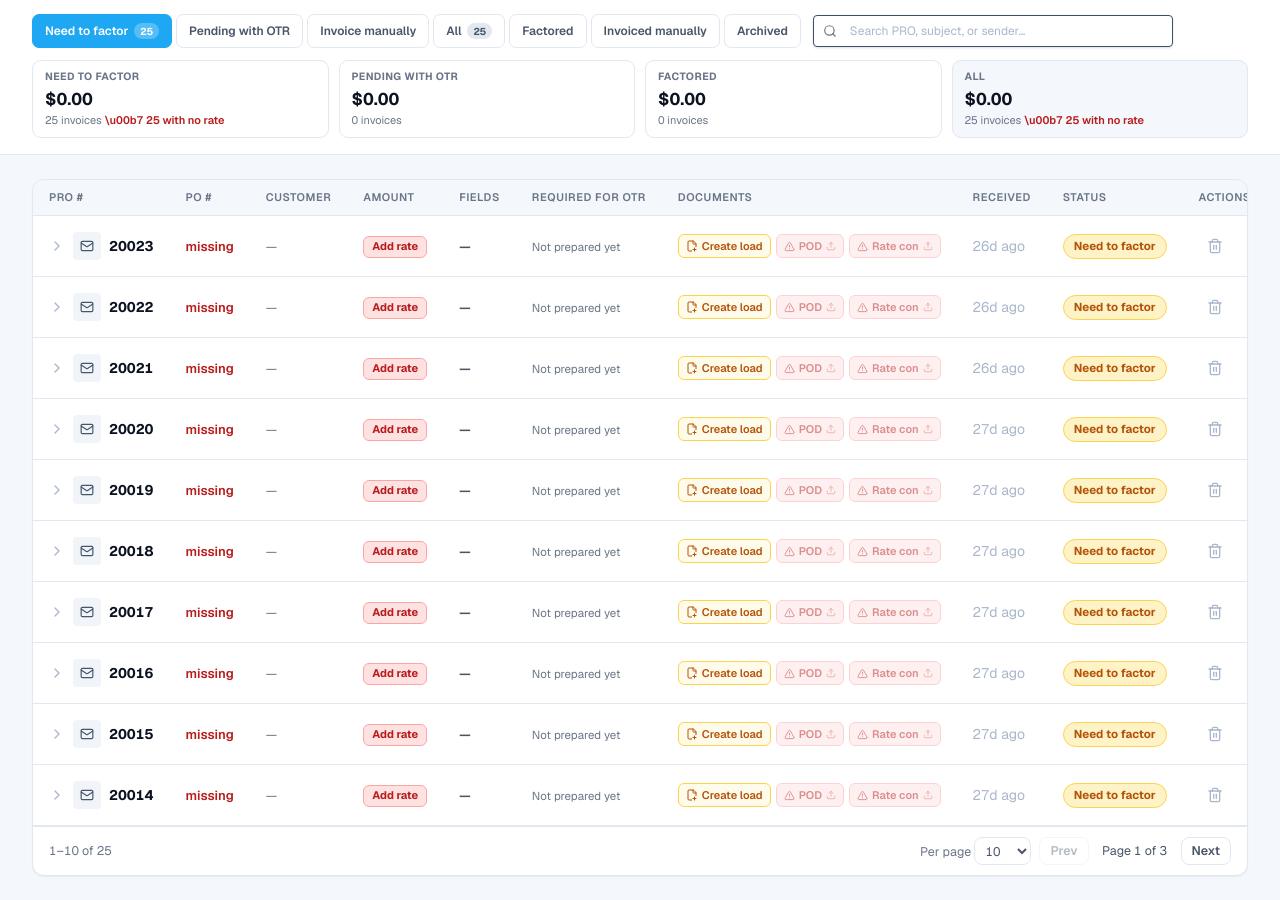
Test: paging through the queue › moves through the pages
The image size is (1280, 900).
(page scrolled)
Click the button with aria-label "Next page" at (1206, 852), box [1180,838,1231,866]
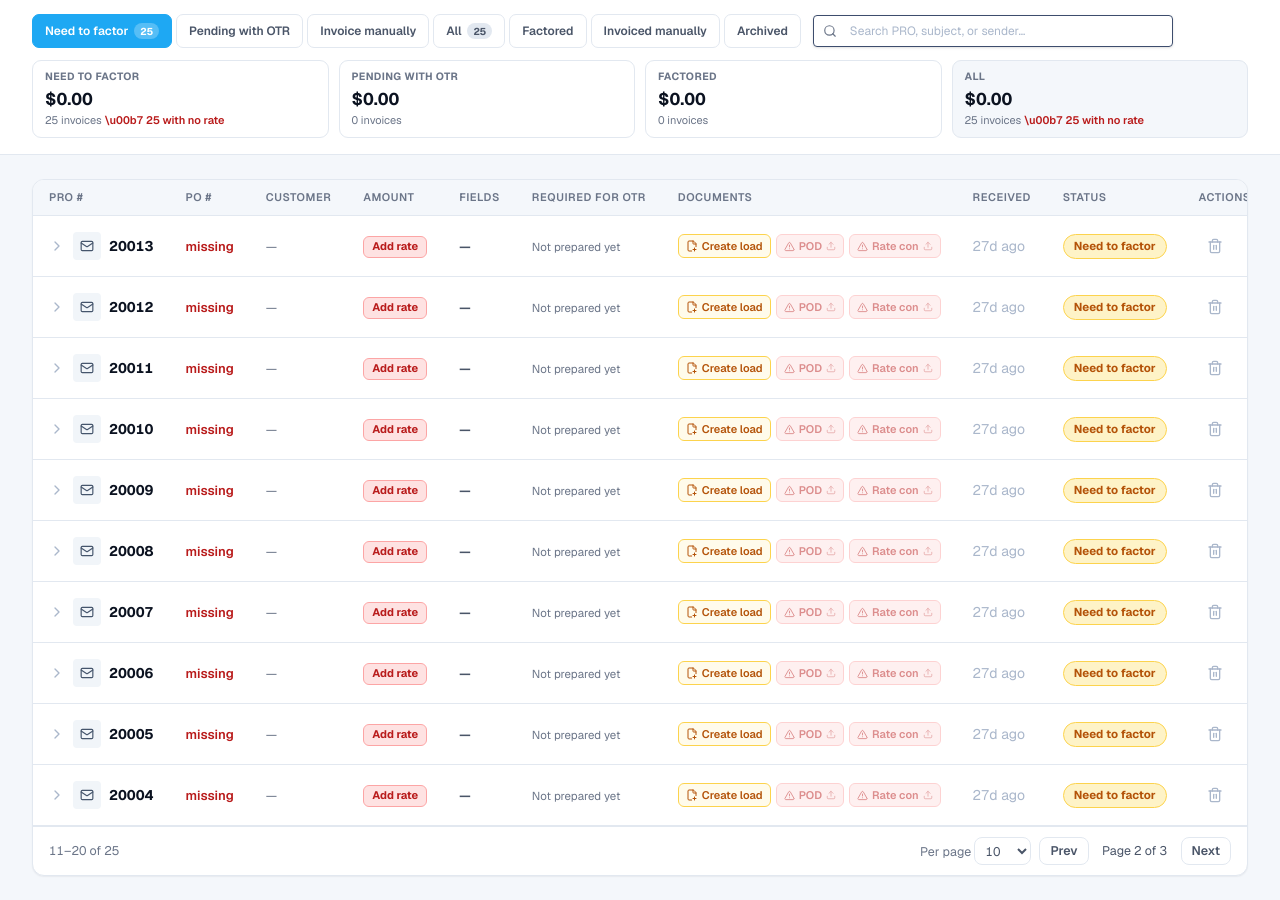
Expected: the text "11–20 of 25" is shown, [49,842,119,861]
Click the button with aria-label "Next page" at (1206, 852), box [1180,838,1231,866]
(page scrolled)
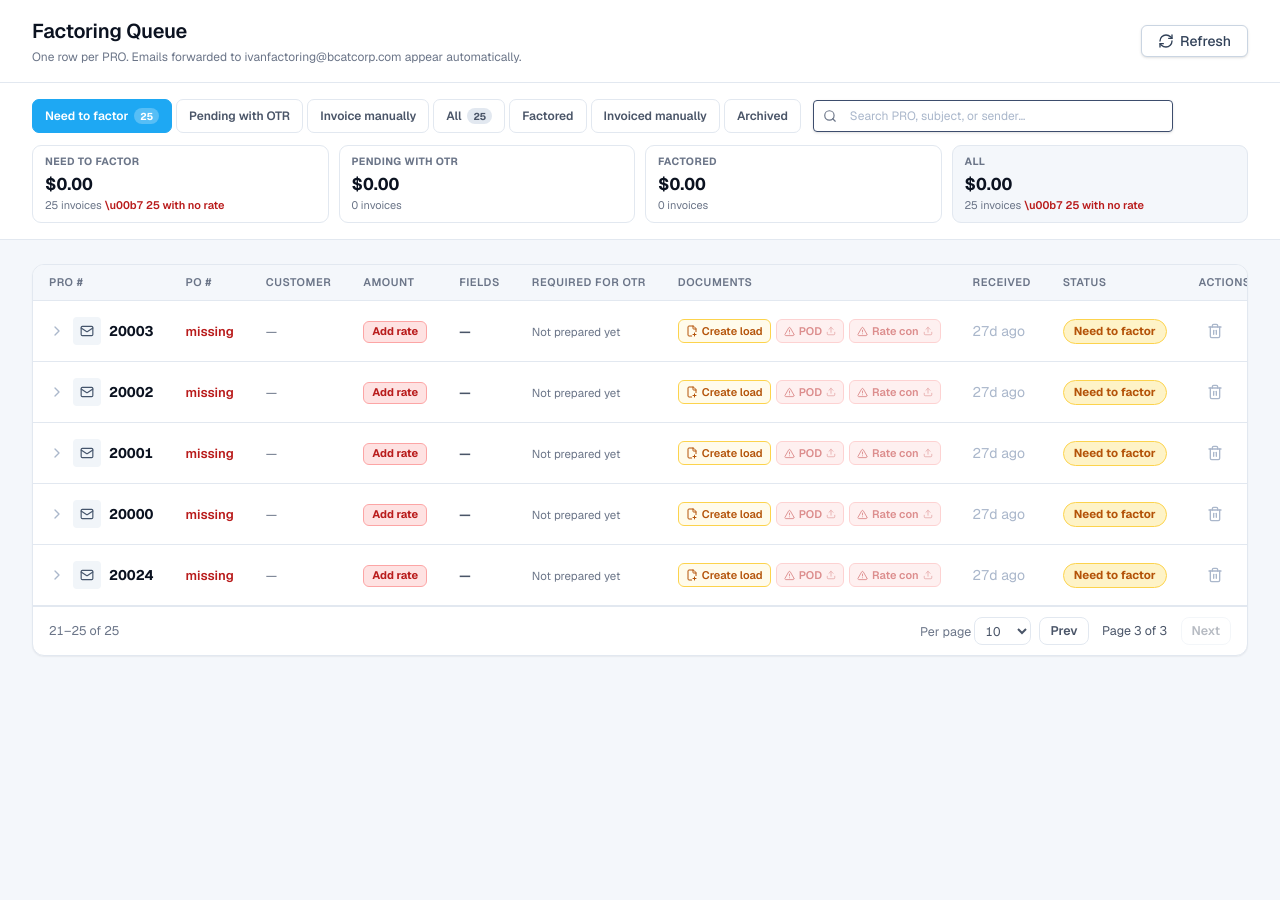
Expected: the text "21–25 of 25" is shown, [49,622,119,641]
Click the button with aria-label "Previous page" at (1064, 632), box [1039,618,1089,646]
(page scrolled)
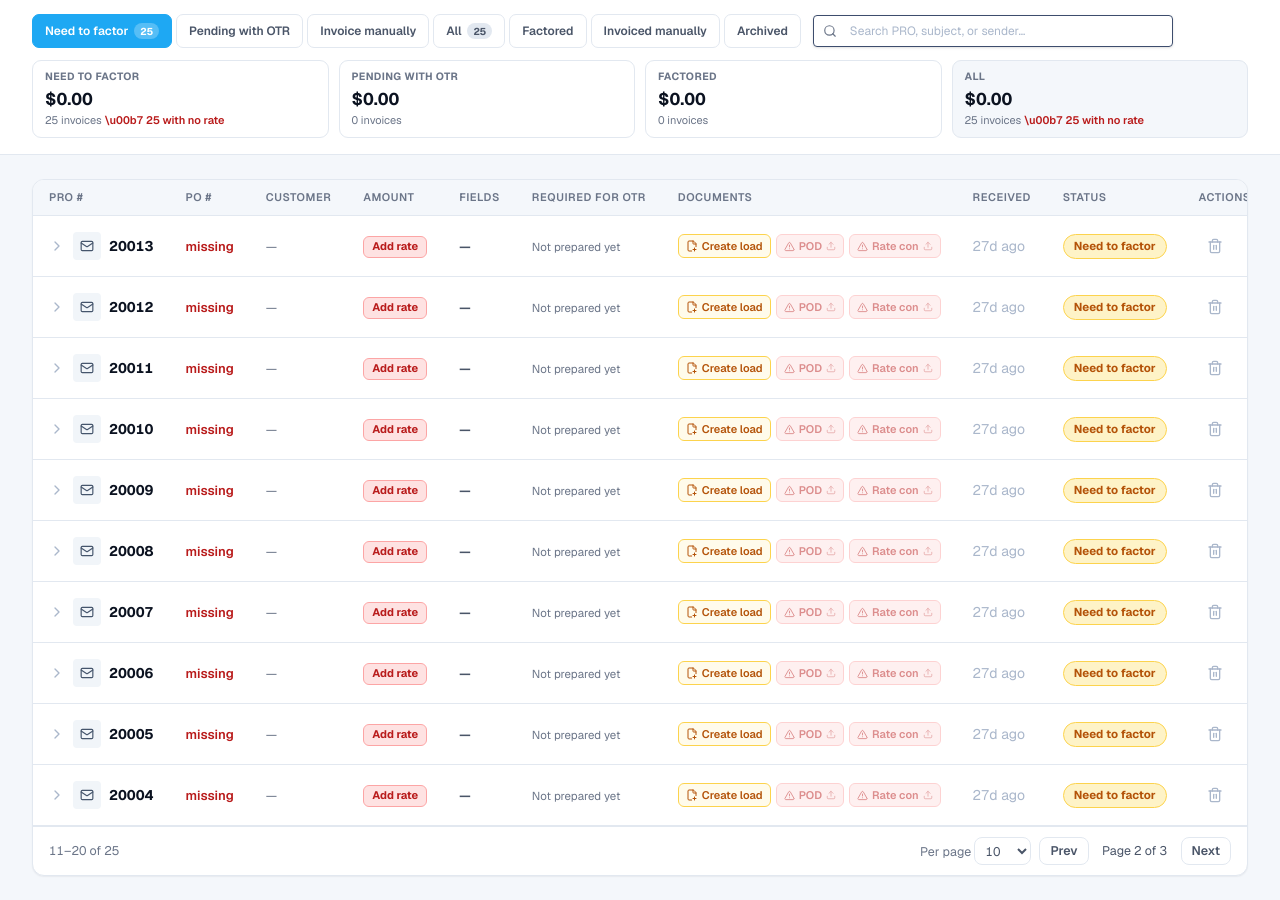
Expected: the text "11–20 of 25" is shown, [49,842,119,861]
